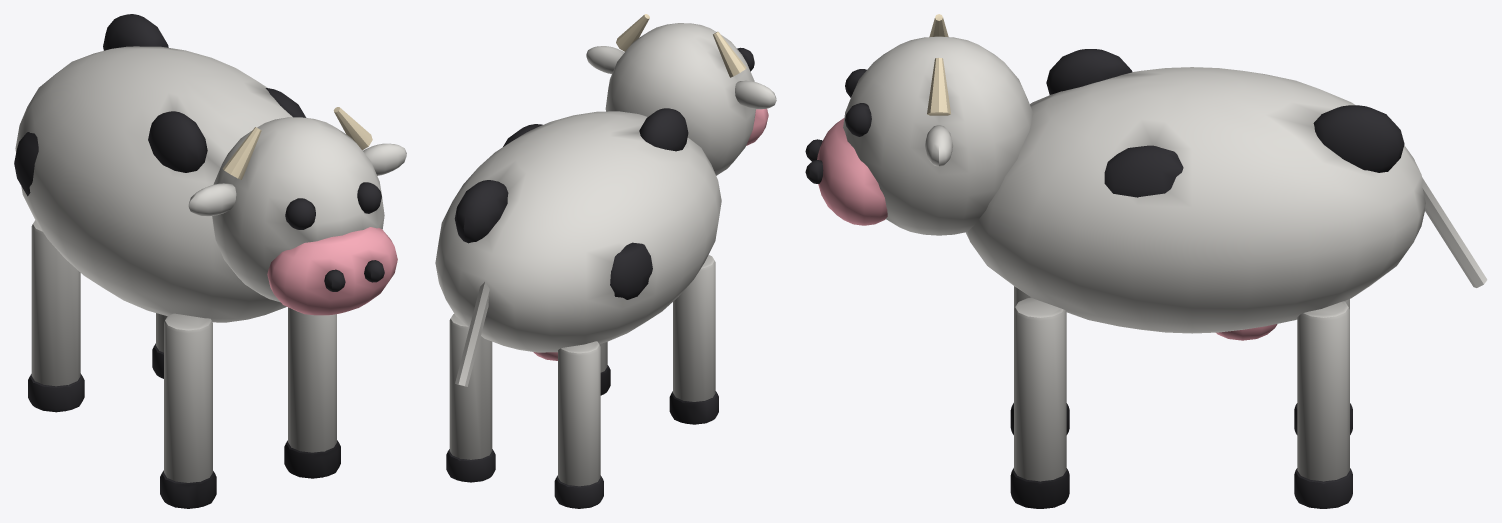
Rendered from bl_cow.glb.
3 renders of one model, left to right at view 1: azimuth 30°, elevation 25°; view 2: azimuth 150°, elevation 25°; view 3: azimuth 270°, elevation 25°, orthographic. The views are drawn at different scales.
Visible parts, largest first — view 1: cow; view 2: cow; view 3: cow.
Part boxes in pixels (x1=…): cow: x1=14, y1=14, x2=406, y2=508; cow: x1=435, y1=14, x2=776, y2=508; cow: x1=805, y1=14, x2=1487, y2=508.
Size of the model in its own units: 1.5 by 2.35 by 3.37.
